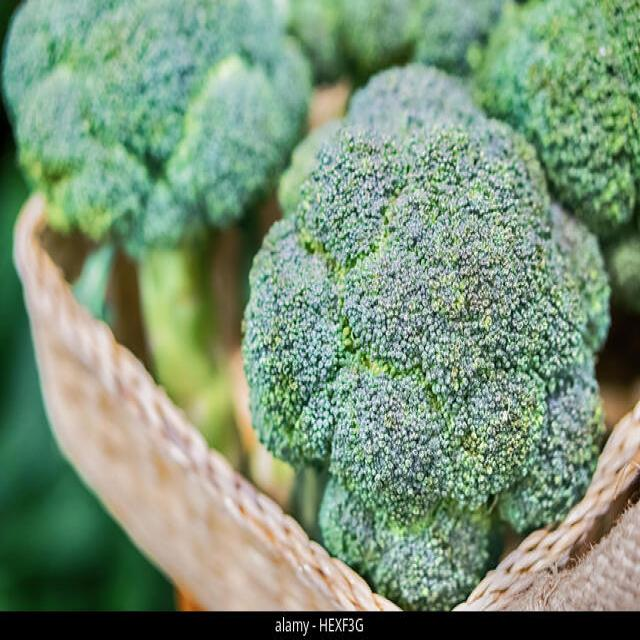broccoli: (240, 124, 598, 605)
